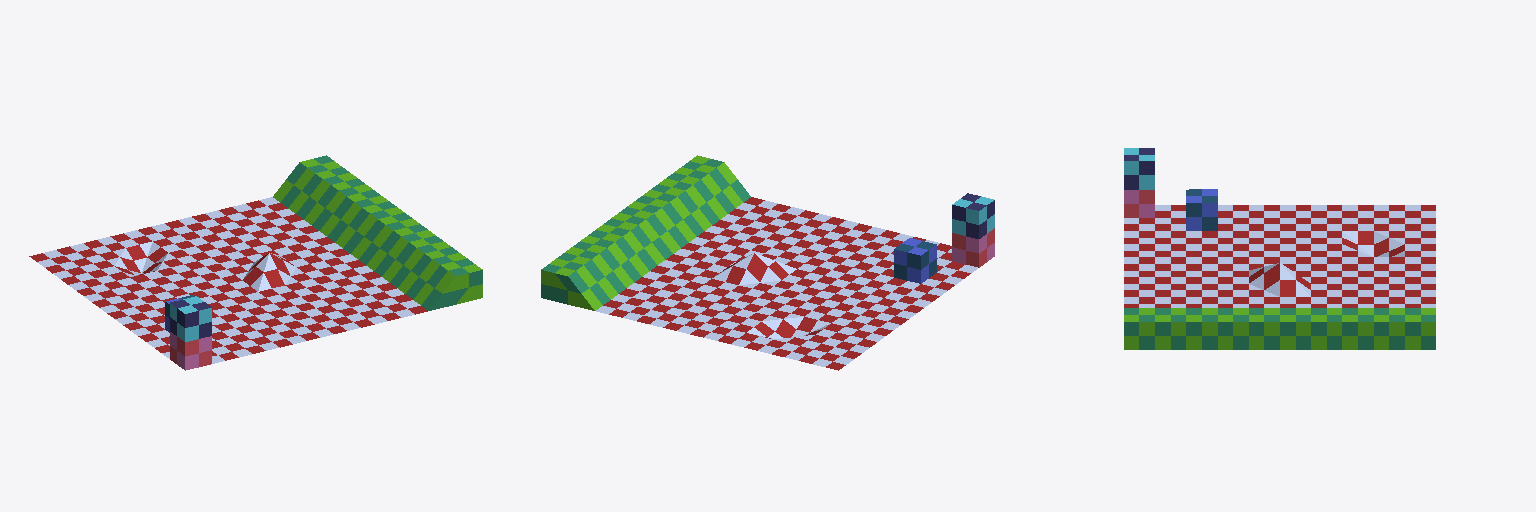
3 views of the same model, side by side, from view 1: azimuth 30°, elevation 25°; view 2: azimuth 150°, elevation 25°; view 3: azimuth 270°, elevation 25° (orthographic).
Parts seen in each view (by area): view 1: Default; view 2: Default; view 3: Default.
Part boxes in pixels (x1,y1,x2,y2): Default: (29,155,482,370); Default: (541,155,994,370); Default: (1124,148,1435,349).
Size of the model in its own units: 22 by 5 by 20.
Materials: 1 (1 with a texture image).